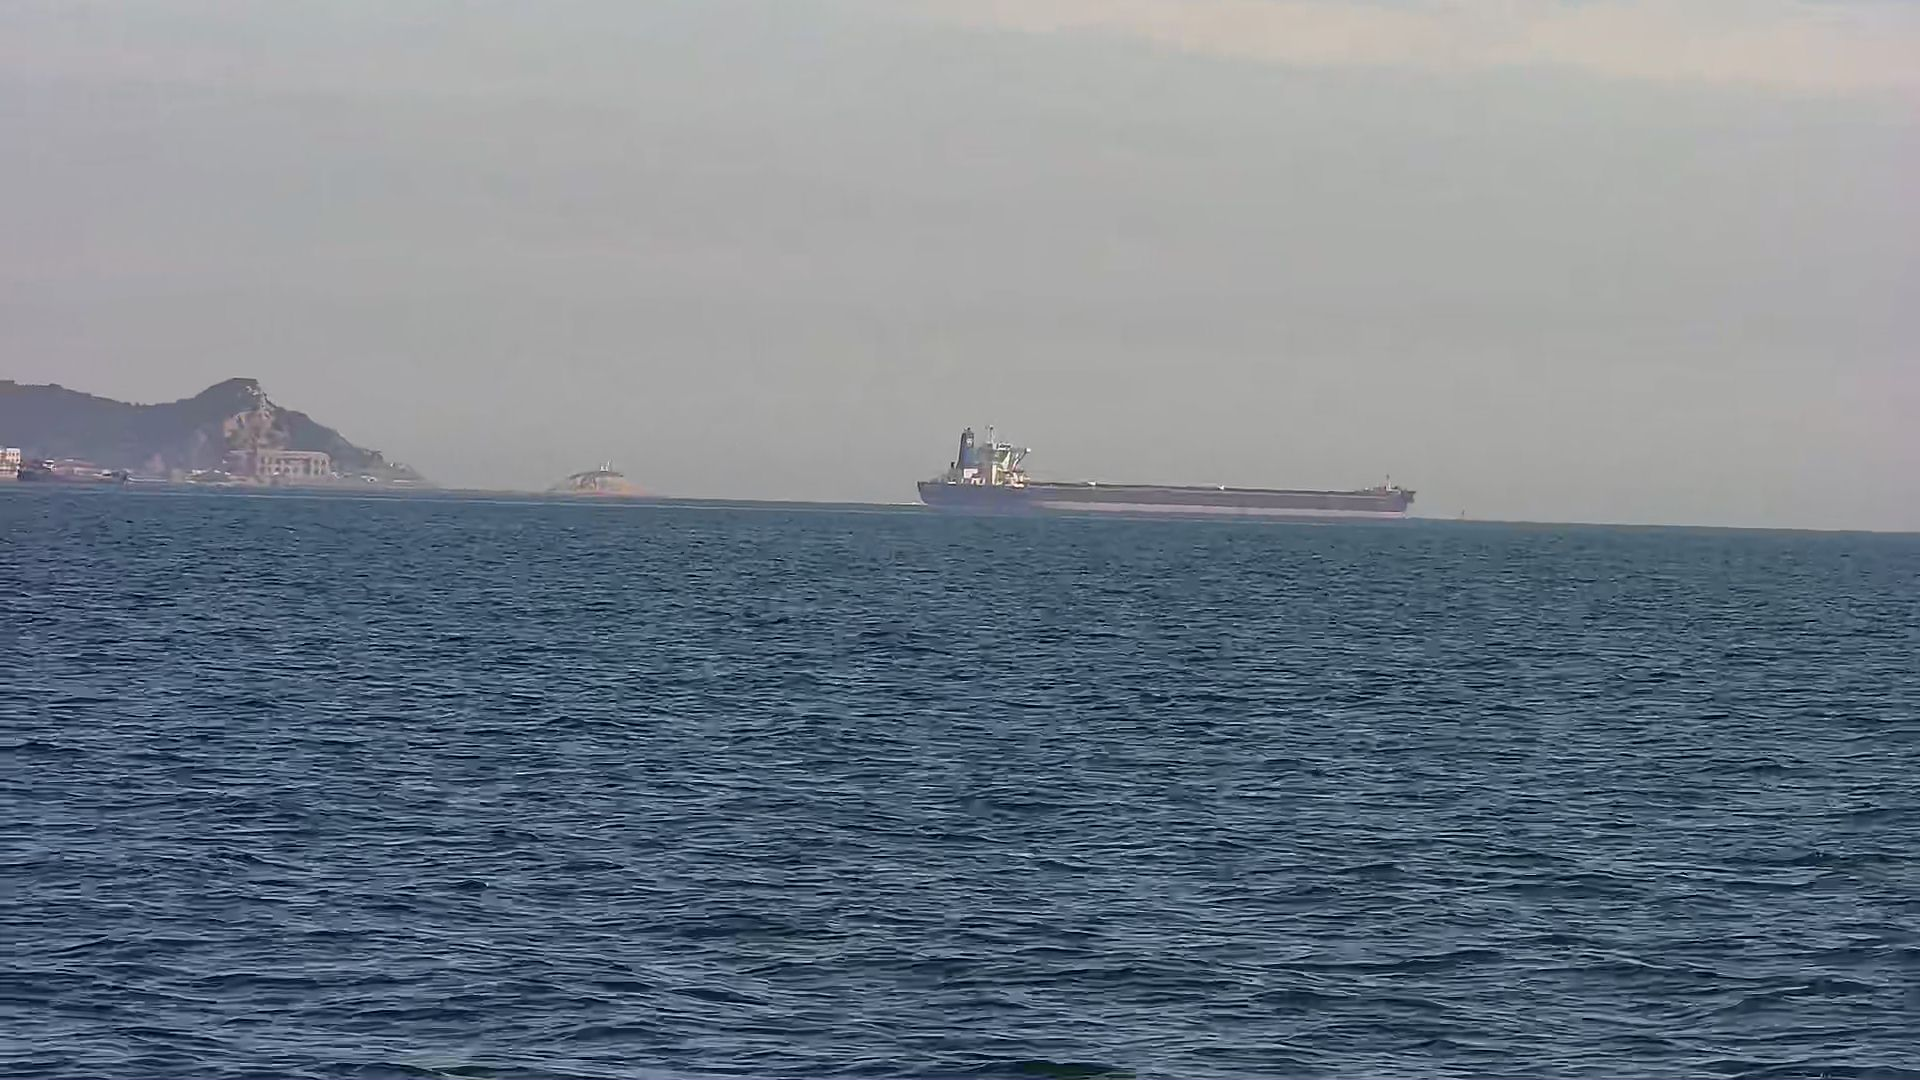rock: (5, 381, 442, 489), (547, 462, 663, 500)
ship: (918, 429, 1418, 525)
